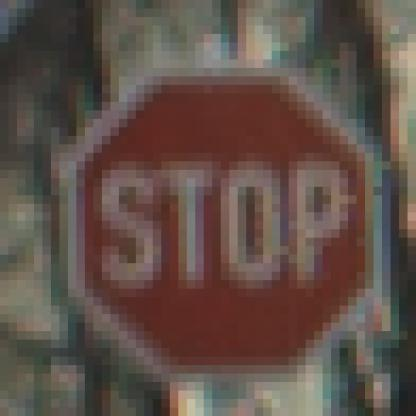stop: (67, 55, 377, 374)
